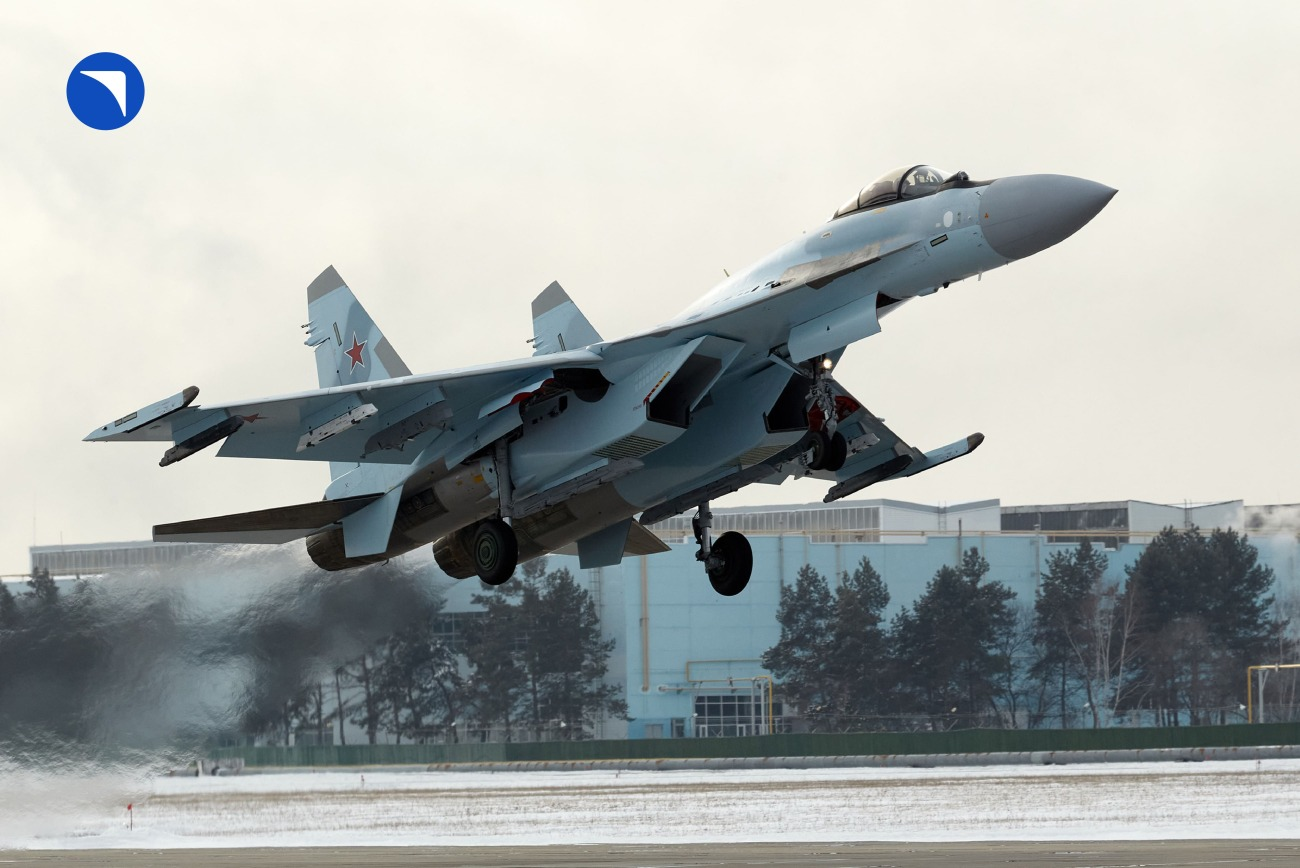Su35: (74, 155, 1130, 606)
